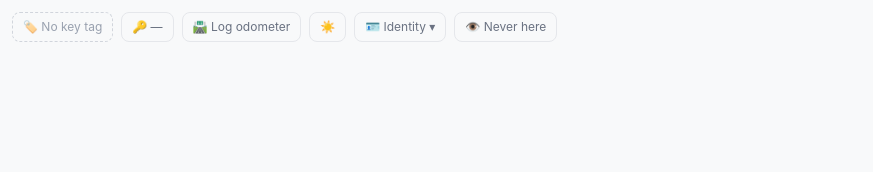
Test case: the VIN chip on the record › ⭐ goes amber on a misread year code
This screenshot has width=873, height=172.
What coordinates should you click on to do the following:
click the button "🪪 Identity ▾"
I would click on:
 (400, 27)
Its box is [354, 12, 446, 42].
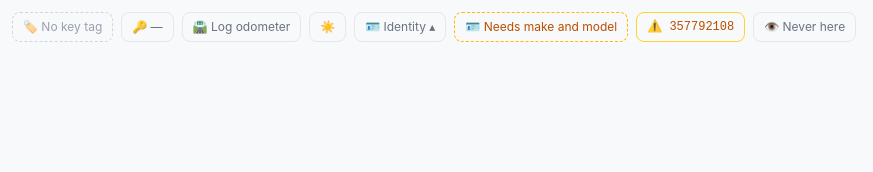
Check: the text "⚠️ 357792108" is shown, box [636, 12, 745, 42]
